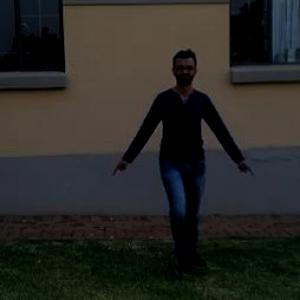land: (117, 57, 250, 258)
